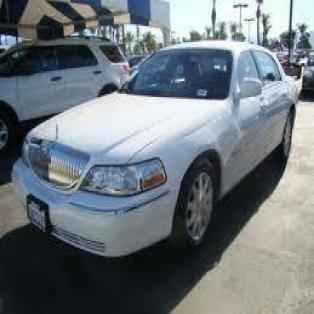Auto: (6, 34, 313, 265)
